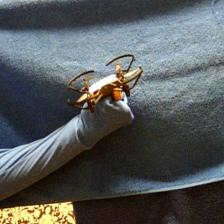drone: (63, 54, 150, 116)
